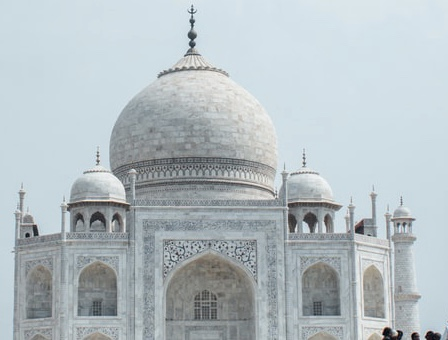Mosque: (22, 6, 438, 328)
